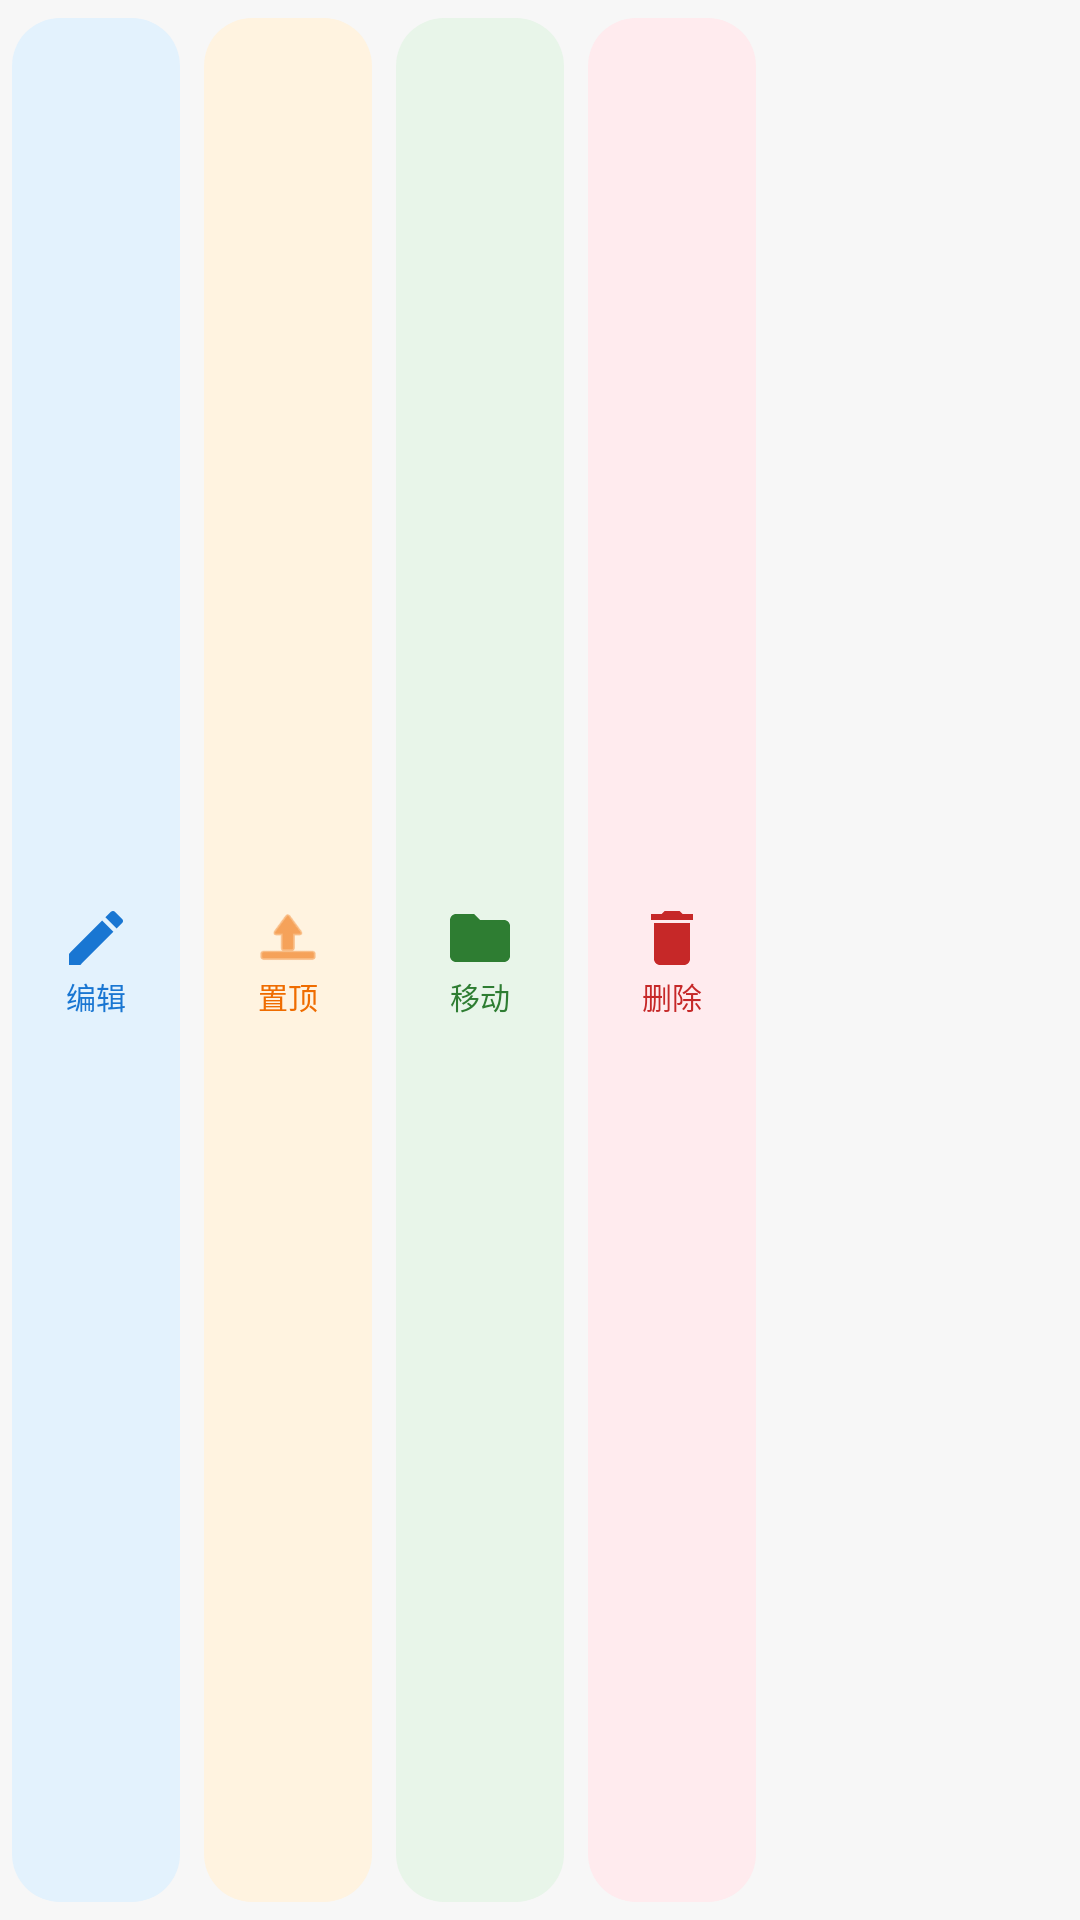

Icon bounding boxes for this 1080 x 1920 phone screenshot, format (x1, y1, x2, y2):
folder: (450, 914, 510, 962)
upload: (260, 914, 316, 960)
